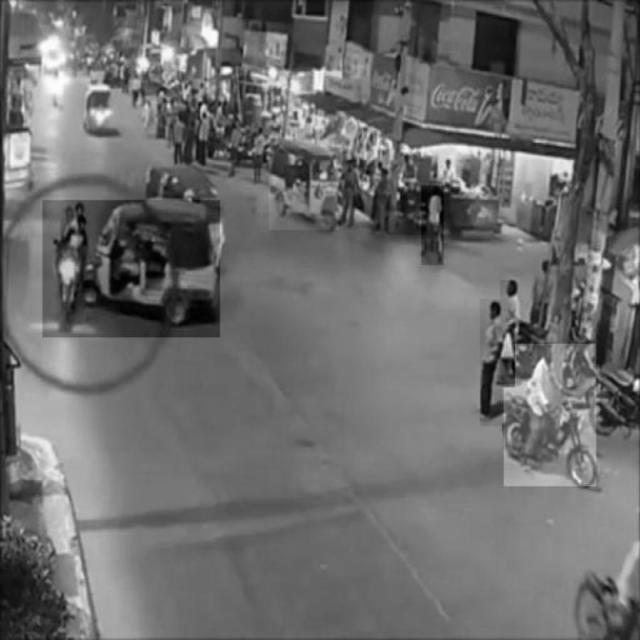accident: (43, 201, 220, 338)
person: (480, 299, 504, 427), (422, 185, 444, 265), (500, 280, 515, 388)
vehicle: (503, 345, 595, 487), (269, 140, 339, 230)
